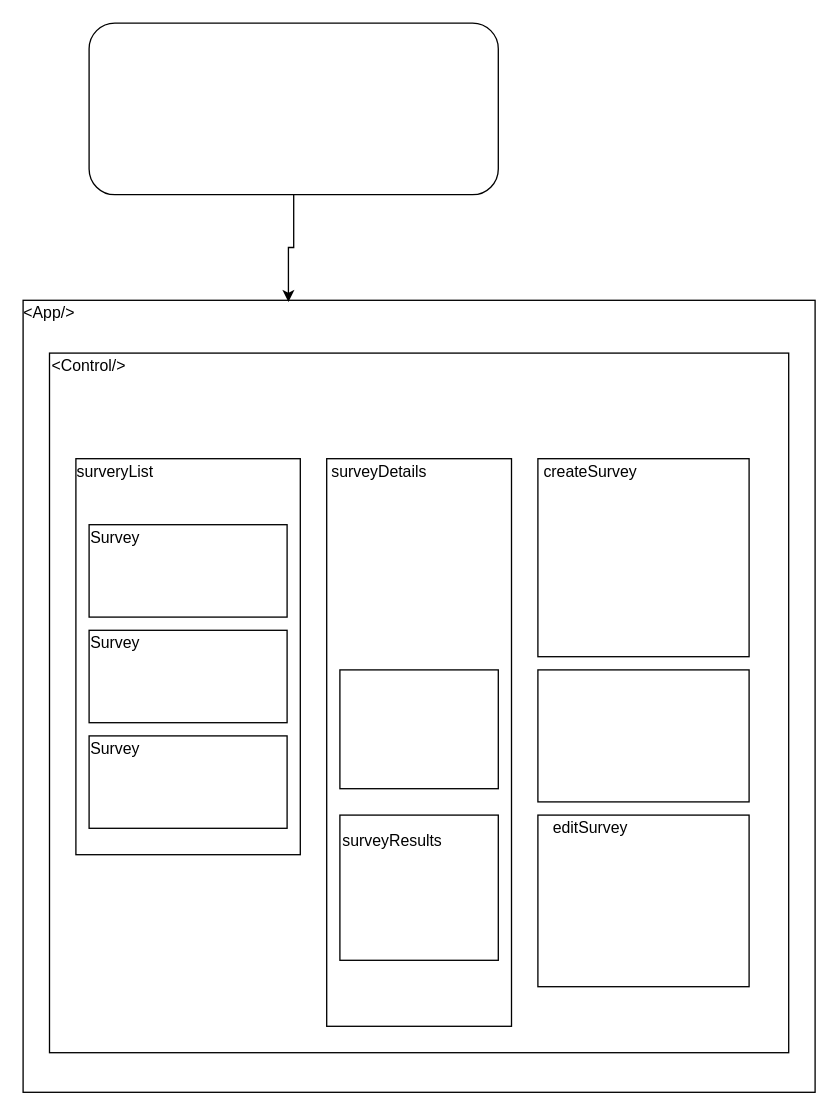
The diagram is 838 pixels wide and 1115 high, and some of its shapes have lost their labels. The centre of each missing label's shape, as x and y in pixels:
"Firestore" goes at (293,108).
"takeSurvey" goes at (418,729).
"userInfo" goes at (643,735).
